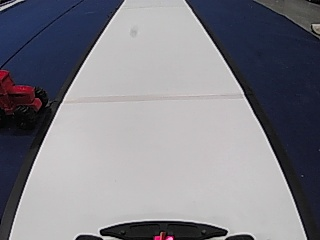tractor: (0, 66, 47, 132)
